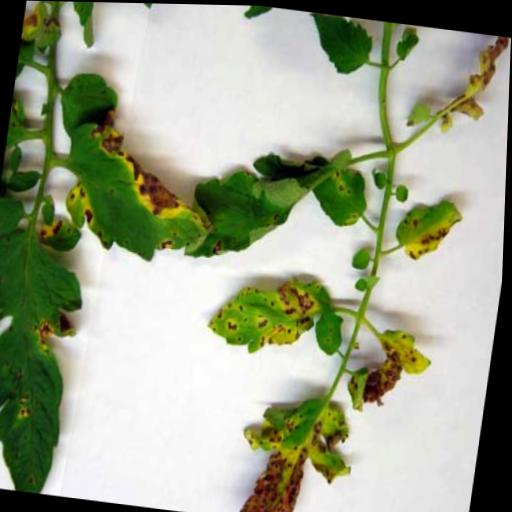Healthy: (299, 10, 377, 80)
Septoria: (0, 210, 96, 496), (51, 114, 224, 271), (183, 139, 327, 275), (227, 381, 361, 512), (205, 259, 335, 361), (392, 185, 467, 266), (301, 156, 370, 227), (375, 320, 442, 384)
